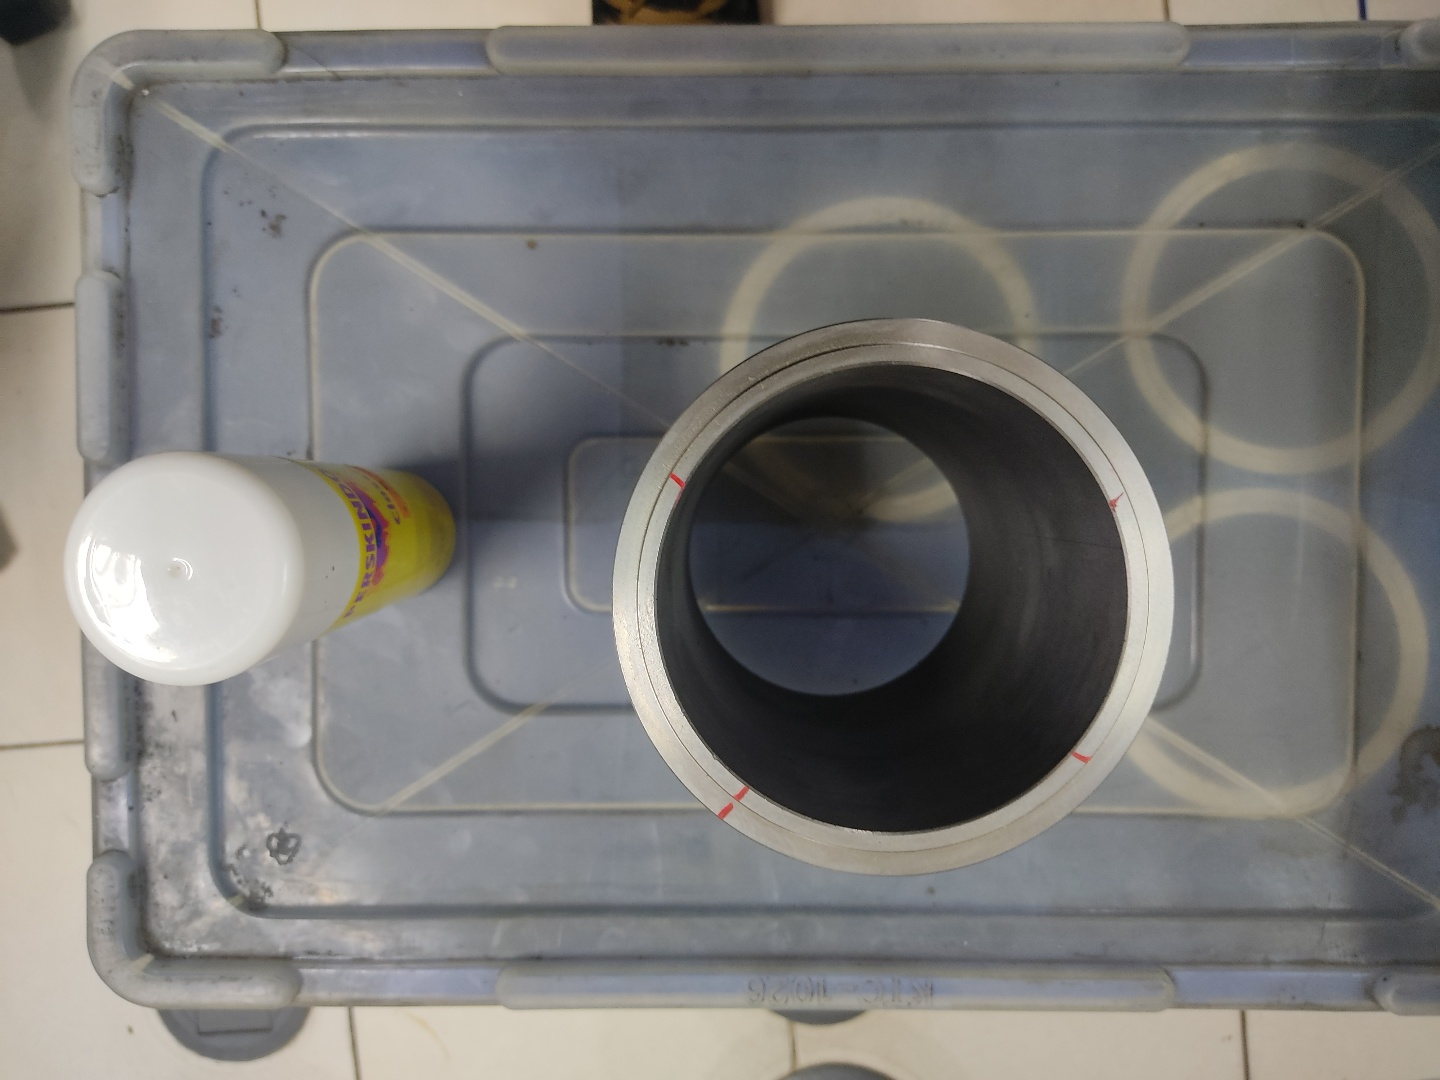cylinder: (604, 310, 1184, 886)
